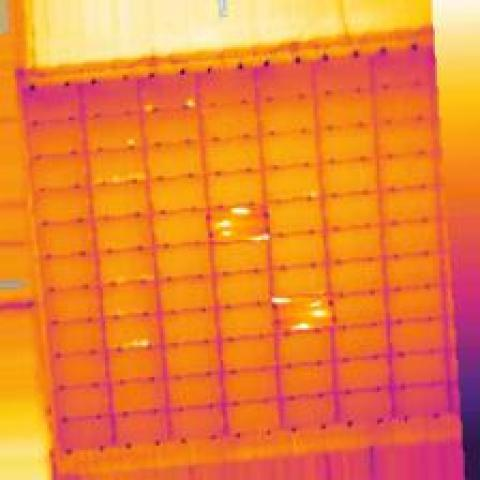fault: (109, 336, 152, 350), (285, 319, 313, 332), (225, 204, 255, 216), (268, 292, 293, 306), (309, 306, 330, 320), (244, 232, 270, 242), (140, 98, 156, 114), (210, 219, 234, 229), (122, 133, 137, 148), (182, 96, 197, 110), (306, 298, 324, 306), (218, 229, 232, 238)
